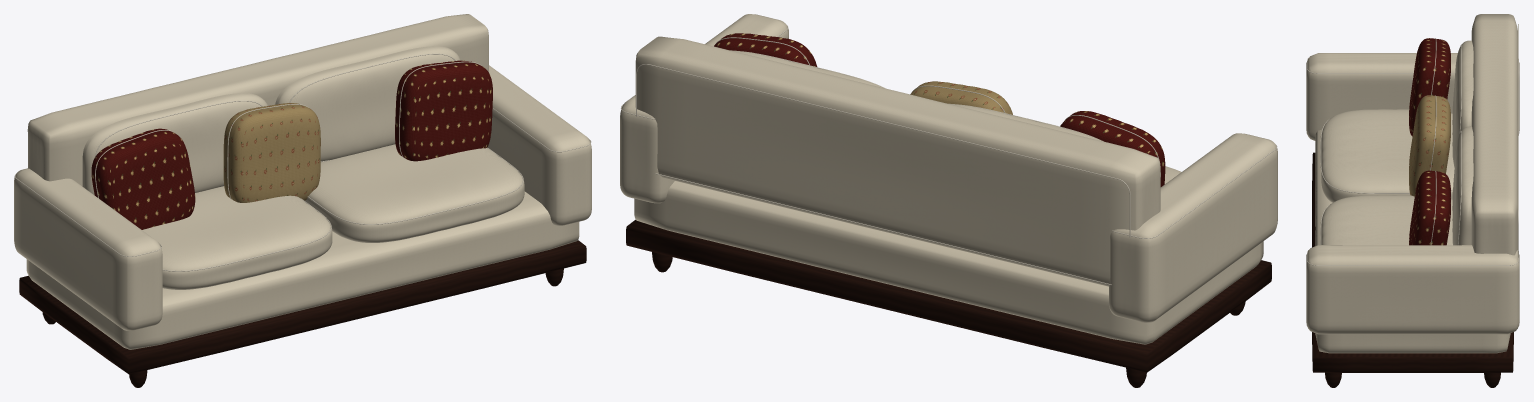
Rendered from west-sofa.glb.
3 renders of one model, left to right at view 1: azimuth 30°, elevation 25°; view 2: azimuth 150°, elevation 25°; view 3: azimuth 270°, elevation 25°, orthographic. The views are drawn at different scales.
Visible parts, largest first — view 1: Upholstered base, Tailored back shell, Seat cushion 1, Soft arm left, Walnut plinth, Seat cushion 0, Soft arm right, Back cushion 1, Floral scatter cushion 1, Floral scatter cushion 2, Floral scatter cushion 0, Back cushion 0; view 2: Tailored back shell, Upholstered base, Soft arm left, Walnut plinth, Soft arm right, Floral scatter cushion 0, Floral scatter cushion 2, Floral scatter cushion 1, Back shell tailored welt, Back cushion 1, Back cushion 0; view 3: Soft arm right, Tailored back shell, Seat cushion 0, Soft arm left, Upholstered base, Walnut plinth, Seat cushion 1, Floral scatter cushion 1, Floral scatter cushion 2, Floral scatter cushion 0, Back cushion 1, Back cushion 0 (+5 smaller).
Part boxes in pixels (bbox=[...]): Upholstered base: bbox=[26, 191, 579, 349]; Tailored back shell: bbox=[27, 14, 488, 186]; Seat cushion 1: bbox=[305, 144, 524, 242]; Soft arm left: bbox=[14, 168, 162, 330]; Walnut plinth: bbox=[19, 240, 586, 374]; Seat cushion 0: bbox=[142, 186, 332, 289]; Soft arm right: bbox=[487, 65, 591, 225]; Back cushion 1: bbox=[275, 46, 460, 161]; Floral scatter cushion 1: bbox=[223, 103, 320, 202]; Floral scatter cushion 2: bbox=[395, 60, 492, 161]; Floral scatter cushion 0: bbox=[91, 128, 195, 229]; Back cushion 0: bbox=[82, 93, 267, 194]; Tailored back shell: bbox=[635, 36, 1160, 286]; Upholstered base: bbox=[634, 181, 1263, 344]; Soft arm left: bbox=[1109, 133, 1277, 322]; Walnut plinth: bbox=[626, 219, 1271, 372]; Soft arm right: bbox=[620, 14, 788, 203]; Floral scatter cushion 0: bbox=[1060, 111, 1165, 186]; Floral scatter cushion 2: bbox=[714, 33, 817, 66]; Floral scatter cushion 1: bbox=[910, 81, 1012, 114]; Back shell tailored welt: bbox=[636, 64, 1130, 285]; Back cushion 1: bbox=[730, 50, 884, 88]; Back cushion 0: bbox=[948, 103, 1103, 141]; Soft arm right: bbox=[1306, 245, 1519, 334]; Tailored back shell: bbox=[1471, 14, 1517, 255]; Seat cushion 0: bbox=[1321, 109, 1454, 202]; Soft arm left: bbox=[1306, 53, 1519, 140]; Upholstered base: bbox=[1315, 129, 1510, 353]; Walnut plinth: bbox=[1312, 152, 1513, 372]; Seat cushion 1: bbox=[1321, 195, 1452, 245]; Floral scatter cushion 1: bbox=[1409, 95, 1450, 196]; Floral scatter cushion 2: bbox=[1409, 170, 1450, 245]; Floral scatter cushion 0: bbox=[1409, 38, 1450, 136]; Back cushion 1: bbox=[1452, 126, 1473, 245]; Back cushion 0: bbox=[1452, 40, 1473, 167].
Size of the model in its own units: 2.2 by 0.8999 by 0.94.
5 materials, 4 textured.
